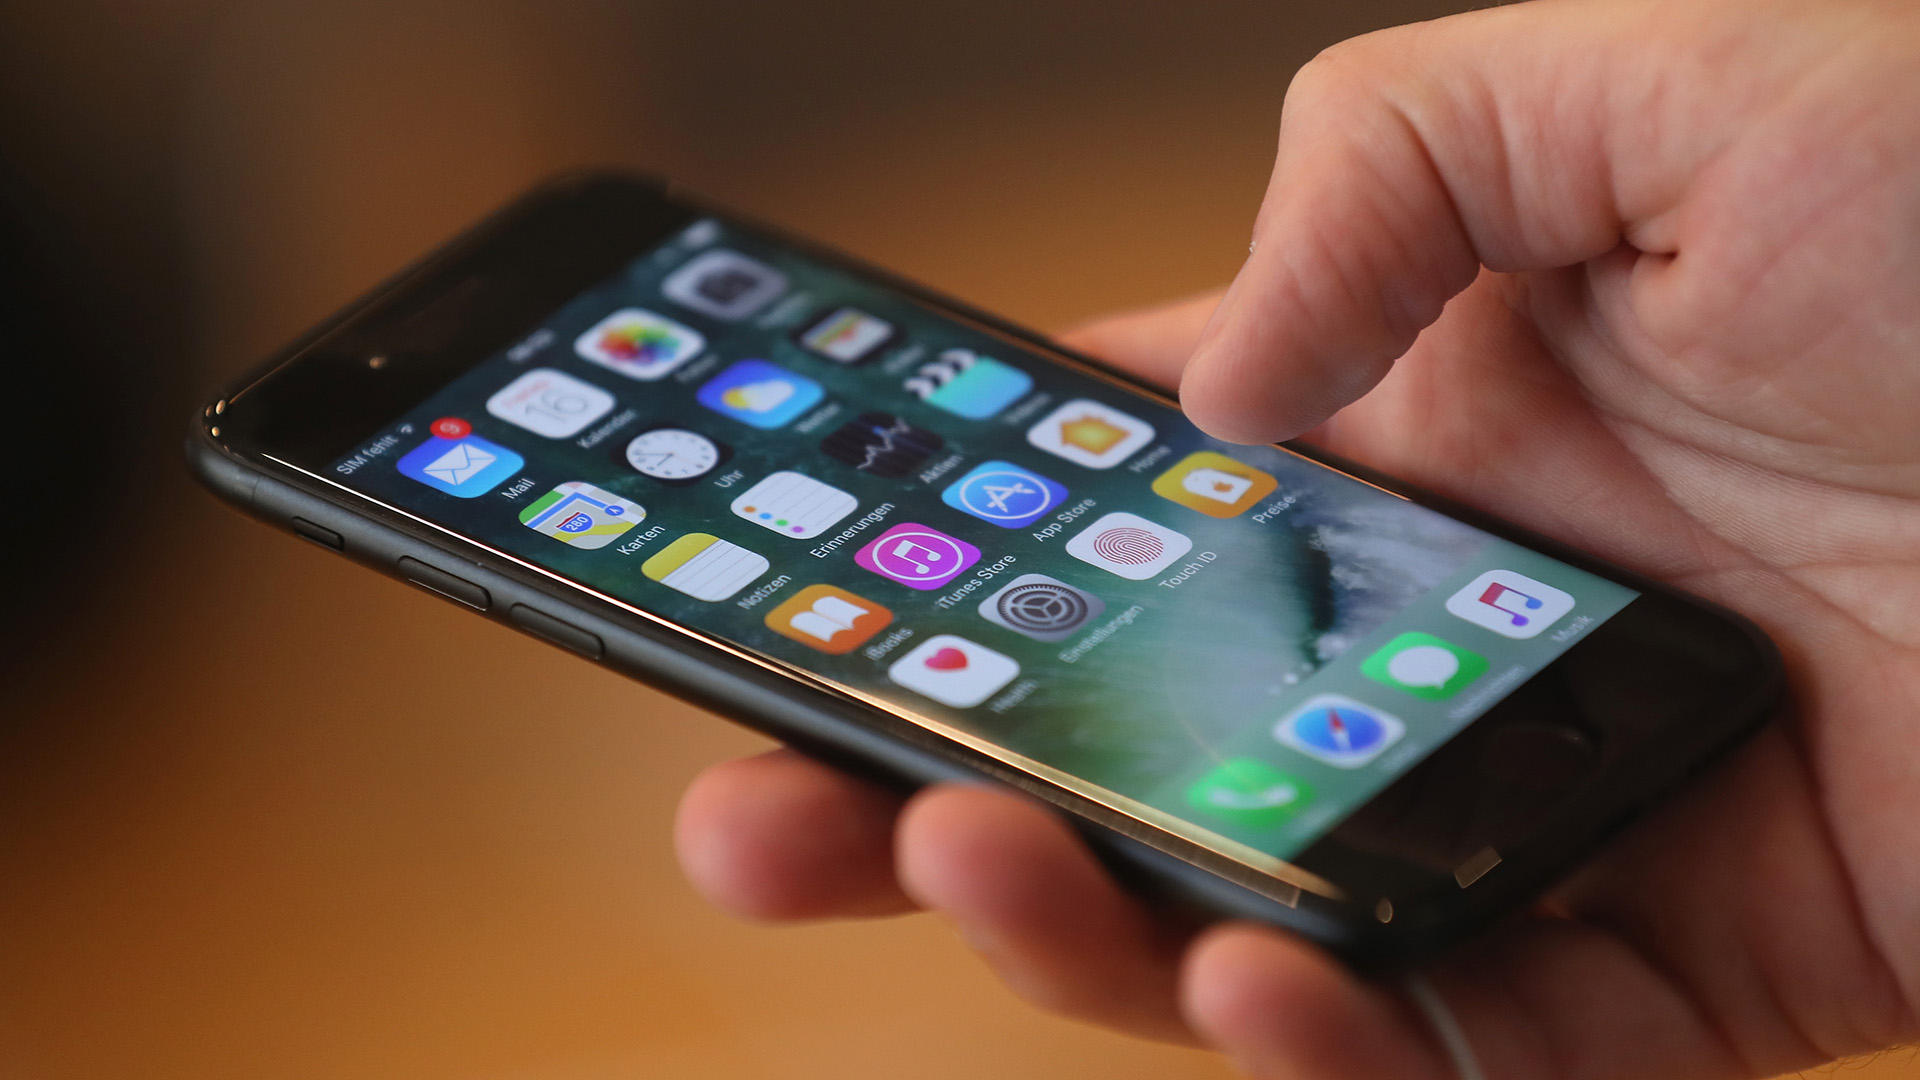smartphone: (189, 162, 1784, 968)
